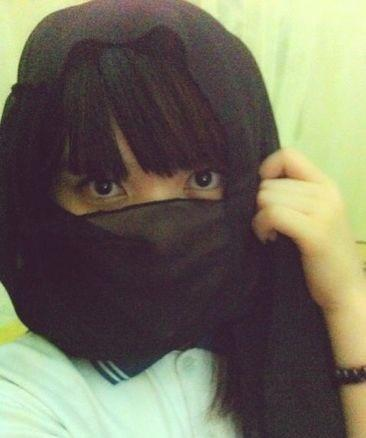OK: (53, 144, 249, 340)
